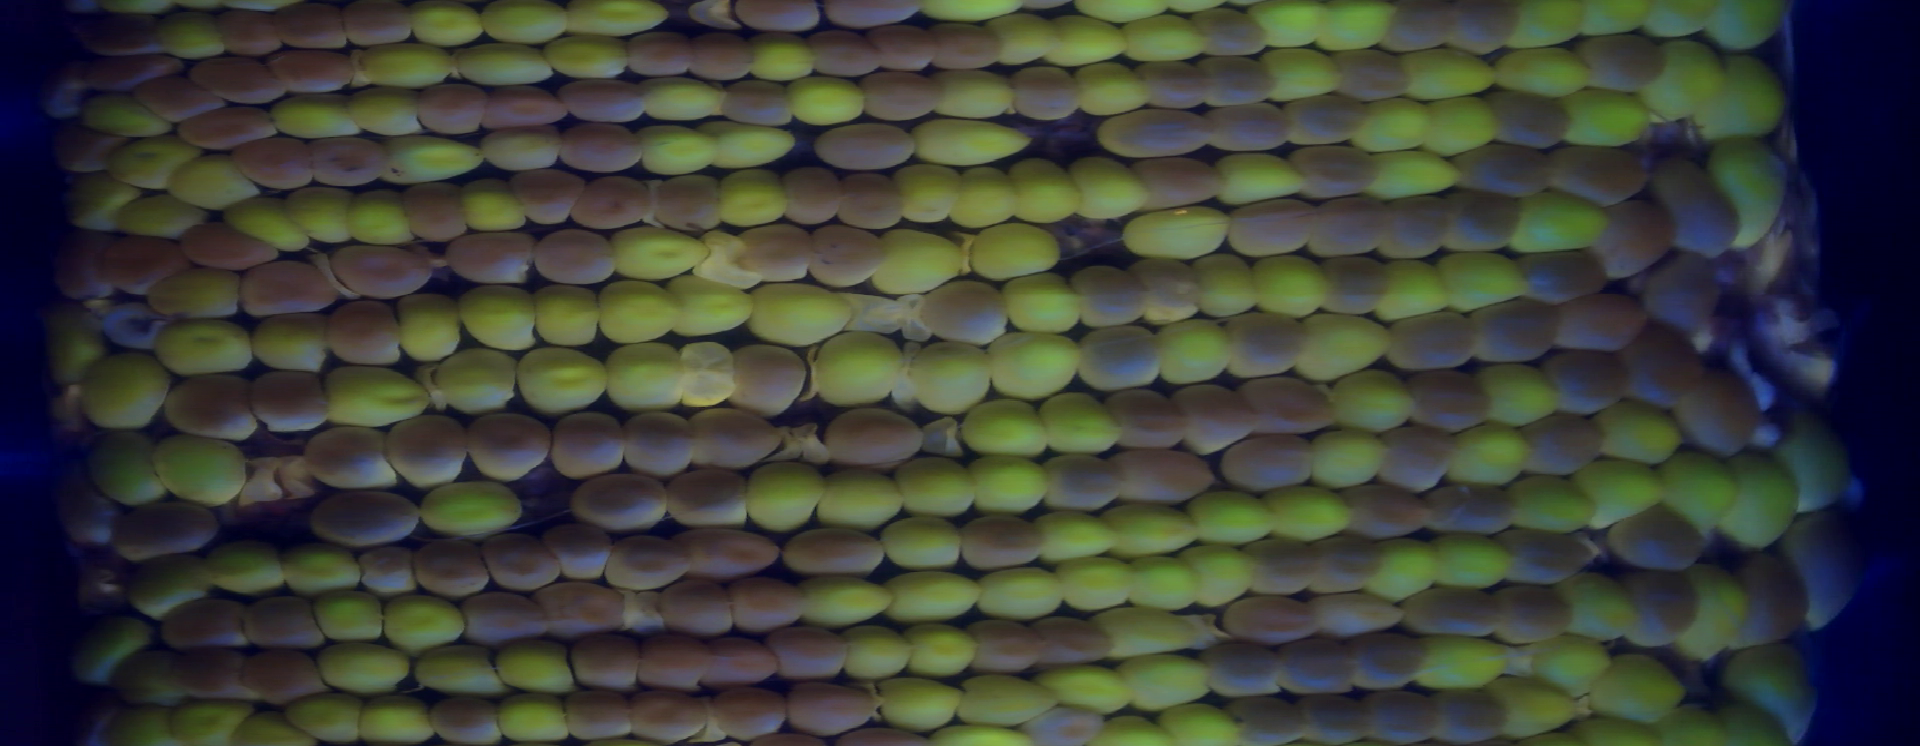fluorescent: (1702, 130, 1795, 255), (1695, 47, 1791, 153), (1727, 637, 1824, 735), (1722, 450, 1809, 557), (807, 325, 910, 415), (312, 359, 436, 434), (73, 349, 178, 436), (1780, 401, 1859, 516), (512, 339, 620, 421), (1284, 310, 1402, 385), (1636, 33, 1731, 125), (1502, 186, 1621, 260), (902, 110, 1043, 171), (146, 429, 252, 510), (737, 278, 858, 348), (410, 472, 530, 541), (1116, 200, 1236, 269), (1580, 649, 1690, 725), (1587, 393, 1689, 475), (1676, 557, 1753, 665), (738, 454, 834, 540), (77, 426, 175, 510), (655, 266, 760, 343), (864, 227, 975, 300), (1430, 247, 1540, 321), (904, 334, 998, 420), (1090, 497, 1206, 566), (982, 328, 1089, 403), (1498, 469, 1609, 540), (1569, 457, 1674, 532), (596, 338, 696, 416), (1659, 446, 1745, 537), (1054, 148, 1157, 223), (1389, 45, 1509, 109), (59, 610, 156, 688), (1326, 363, 1423, 441), (1551, 568, 1646, 648), (1251, 477, 1360, 545), (951, 668, 1067, 733), (142, 314, 257, 379), (951, 392, 1053, 465), (120, 548, 218, 624), (373, 586, 476, 658), (1176, 485, 1286, 552), (591, 273, 691, 348), (1469, 356, 1569, 431), (811, 465, 911, 539), (1424, 527, 1524, 600), (1142, 314, 1238, 391), (1439, 418, 1536, 494), (1404, 627, 1513, 695), (1526, 630, 1624, 704), (433, 341, 527, 419), (372, 129, 489, 191), (887, 450, 982, 526), (1036, 387, 1131, 463), (1109, 652, 1221, 717), (1247, 247, 1337, 327), (449, 281, 544, 356), (958, 447, 1053, 522), (1000, 151, 1089, 232), (309, 633, 418, 698), (1093, 600, 1202, 665), (599, 223, 716, 283), (1551, 81, 1651, 152), (962, 218, 1067, 285), (1480, 670, 1584, 737), (1022, 506, 1130, 570), (1171, 537, 1262, 611), (1300, 419, 1393, 492), (1356, 534, 1449, 608), (1367, 251, 1453, 330), (879, 563, 988, 626), (242, 307, 339, 377), (631, 119, 732, 185), (40, 298, 111, 392), (869, 673, 972, 737), (998, 265, 1089, 338), (921, 64, 1027, 126), (1180, 247, 1266, 325), (162, 149, 261, 216), (1358, 145, 1468, 203), (408, 638, 509, 702), (971, 562, 1073, 626), (1030, 659, 1138, 719), (1248, 42, 1347, 107), (1489, 47, 1603, 103), (449, 36, 561, 93), (198, 534, 295, 600), (694, 115, 801, 175), (1051, 551, 1145, 619), (489, 631, 584, 697), (1344, 92, 1441, 157), (1210, 148, 1310, 211), (1117, 552, 1210, 620), (791, 570, 898, 628), (339, 78, 437, 142), (388, 287, 470, 363), (1413, 96, 1504, 164), (874, 510, 973, 572), (107, 187, 212, 246), (1118, 10, 1223, 69), (217, 195, 313, 258), (709, 164, 797, 234), (100, 134, 209, 190), (262, 87, 369, 145), (888, 159, 972, 232), (527, 278, 607, 353), (142, 266, 249, 322), (1065, 56, 1157, 121), (53, 170, 141, 238), (1036, 10, 1136, 69), (272, 537, 370, 597), (973, 9, 1070, 69), (72, 88, 178, 143), (778, 71, 876, 130), (833, 619, 920, 685), (305, 586, 393, 650), (541, 29, 636, 89), (473, 119, 573, 175), (159, 693, 264, 746), (896, 615, 984, 677), (339, 185, 424, 250), (631, 71, 733, 124), (353, 38, 460, 88), (1701, 1, 1791, 60), (279, 183, 361, 247), (738, 24, 822, 88), (349, 688, 440, 746), (945, 165, 1024, 232), (276, 688, 364, 746), (107, 646, 191, 706), (1309, 1, 1401, 56), (490, 686, 573, 746), (1505, 1, 1591, 58), (473, 1, 576, 48), (456, 176, 534, 236), (1240, 1, 1333, 51), (400, 1, 490, 53), (148, 7, 231, 62), (561, 1, 675, 40), (1152, 697, 1243, 746), (88, 698, 180, 746), (1635, 1, 1720, 45), (227, 706, 315, 746), (1078, 710, 1173, 746), (1575, 1, 1656, 43), (922, 722, 1033, 746)
nonfluorescent: (1780, 503, 1871, 637), (1652, 153, 1745, 265), (1674, 356, 1764, 467), (1731, 544, 1818, 657), (1584, 194, 1684, 292), (1631, 245, 1727, 341), (294, 420, 408, 499), (1616, 320, 1711, 412), (1611, 563, 1706, 655), (1604, 499, 1711, 579), (153, 367, 264, 445), (818, 402, 937, 473), (1229, 370, 1344, 442), (380, 407, 474, 494), (1103, 442, 1224, 510), (1462, 292, 1569, 367), (1489, 521, 1604, 590), (105, 496, 229, 561), (460, 407, 560, 488), (305, 484, 424, 551), (1215, 303, 1315, 382), (1536, 345, 1638, 423), (1164, 379, 1264, 458), (775, 519, 888, 589), (1382, 305, 1490, 377), (1068, 322, 1169, 398), (1547, 138, 1653, 211), (1393, 364, 1498, 437), (911, 276, 1014, 349), (718, 339, 811, 420), (230, 254, 342, 321), (1547, 288, 1652, 359), (1480, 579, 1586, 650), (1119, 151, 1234, 216), (1450, 137, 1562, 203), (1390, 582, 1509, 644), (1098, 383, 1198, 458), (562, 469, 673, 535), (1331, 478, 1442, 544), (322, 239, 437, 303), (683, 402, 786, 473), (1191, 633, 1291, 707), (806, 115, 924, 176), (776, 670, 882, 739), (1371, 419, 1464, 496), (1031, 446, 1131, 517), (1093, 105, 1220, 162), (1416, 478, 1524, 543), (1262, 631, 1365, 699), (1221, 195, 1325, 262), (1309, 246, 1400, 323), (1237, 530, 1329, 606), (1021, 608, 1124, 675), (528, 577, 634, 642), (658, 462, 758, 530), (1571, 29, 1675, 96), (241, 363, 332, 439), (1217, 431, 1319, 499), (318, 294, 405, 372), (800, 219, 894, 292), (1120, 252, 1209, 330), (171, 216, 287, 274), (598, 532, 698, 599), (440, 224, 539, 292), (235, 587, 334, 654), (716, 570, 816, 637), (1337, 628, 1436, 696), (678, 523, 785, 586), (1064, 258, 1156, 331), (231, 642, 328, 710), (1517, 410, 1610, 481), (98, 229, 193, 298), (1215, 589, 1326, 648), (47, 463, 125, 546), (615, 408, 707, 479), (1373, 194, 1464, 265), (958, 612, 1056, 679), (1286, 141, 1387, 205), (544, 408, 633, 480), (154, 592, 253, 657), (471, 526, 563, 595), (524, 223, 621, 289), (403, 533, 496, 601), (1480, 85, 1573, 153), (951, 508, 1049, 573), (456, 584, 553, 649), (171, 99, 284, 156), (1304, 190, 1397, 257), (1513, 247, 1615, 309), (654, 575, 741, 646), (44, 224, 118, 307), (757, 621, 855, 684), (535, 516, 620, 588), (29, 34, 97, 125), (551, 118, 654, 176), (1321, 45, 1418, 108), (703, 677, 796, 742), (1438, 187, 1527, 255), (1304, 528, 1387, 600), (562, 171, 656, 235), (69, 5, 173, 62), (731, 220, 820, 287), (620, 684, 714, 746), (167, 642, 257, 707), (182, 51, 289, 107), (556, 627, 643, 695), (1278, 92, 1378, 151), (301, 131, 394, 194), (1191, 51, 1284, 114), (1000, 62, 1089, 127), (696, 633, 789, 695), (504, 163, 589, 230), (769, 160, 849, 232), (1284, 688, 1382, 746), (229, 134, 321, 195), (853, 66, 947, 126), (1199, 99, 1296, 157), (553, 72, 654, 127), (634, 626, 716, 693), (1425, 684, 1513, 746), (396, 176, 475, 245), (648, 171, 729, 239), (125, 76, 231, 126), (924, 16, 1011, 77), (1359, 685, 1445, 746), (827, 169, 909, 233), (1439, 1, 1527, 60), (409, 77, 493, 138), (857, 20, 947, 77), (1375, 1, 1464, 59), (1187, 4, 1273, 62), (1222, 693, 1318, 746), (800, 24, 887, 82), (422, 688, 509, 746), (263, 43, 358, 96), (45, 118, 126, 179), (211, 4, 290, 65), (560, 684, 637, 746), (476, 81, 569, 132), (1128, 58, 1213, 113), (1307, 590, 1411, 636), (269, 1, 351, 58), (334, 1, 421, 53), (618, 27, 700, 81), (719, 76, 796, 132), (682, 29, 758, 85), (83, 50, 189, 89), (351, 541, 421, 600), (1014, 703, 1109, 746), (726, 1, 827, 40), (818, 1, 926, 36)
